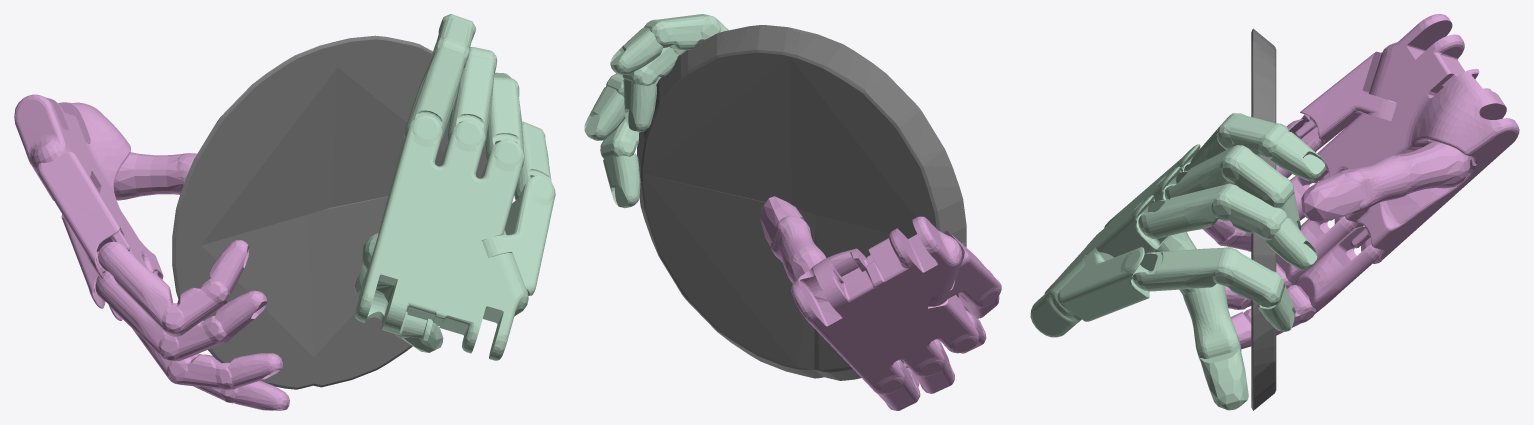
File: Plate.glb
3 views of the same model, side by side, from view 1: azimuth 30°, elevation 25°; view 2: azimuth 150°, elevation 25°; view 3: azimuth 270°, elevation 25° (orthographic).
Visible parts, largest first — view 1: world; view 2: world; view 3: world.
Boxes of the visible parts, <box> form: world: <box>14,14,555,410</box>; world: <box>584,14,1001,410</box>; world: <box>1030,14,1519,410</box>.
Size of the model in its own units: 0.2537 by 0.1947 by 0.2508.
